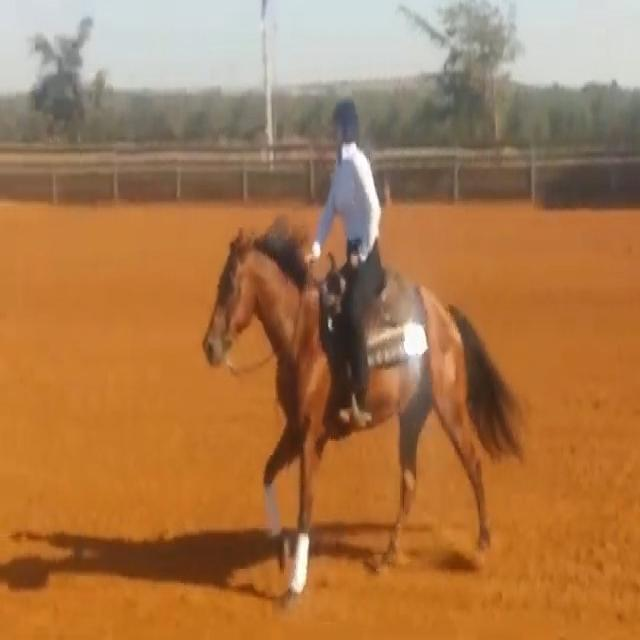horse: (200, 219, 525, 599)
